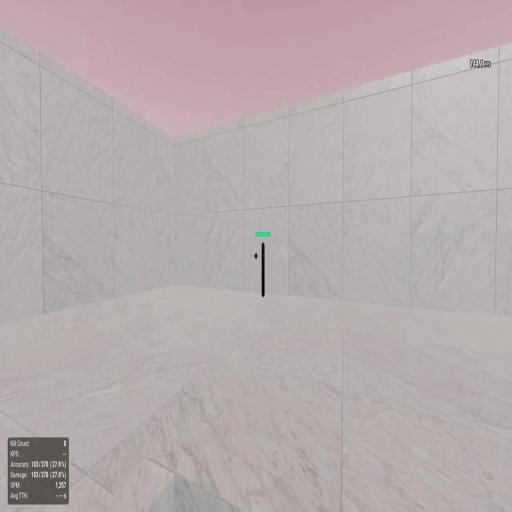Crosshair: (254, 252, 258, 260)
Target: (262, 243, 265, 296)
